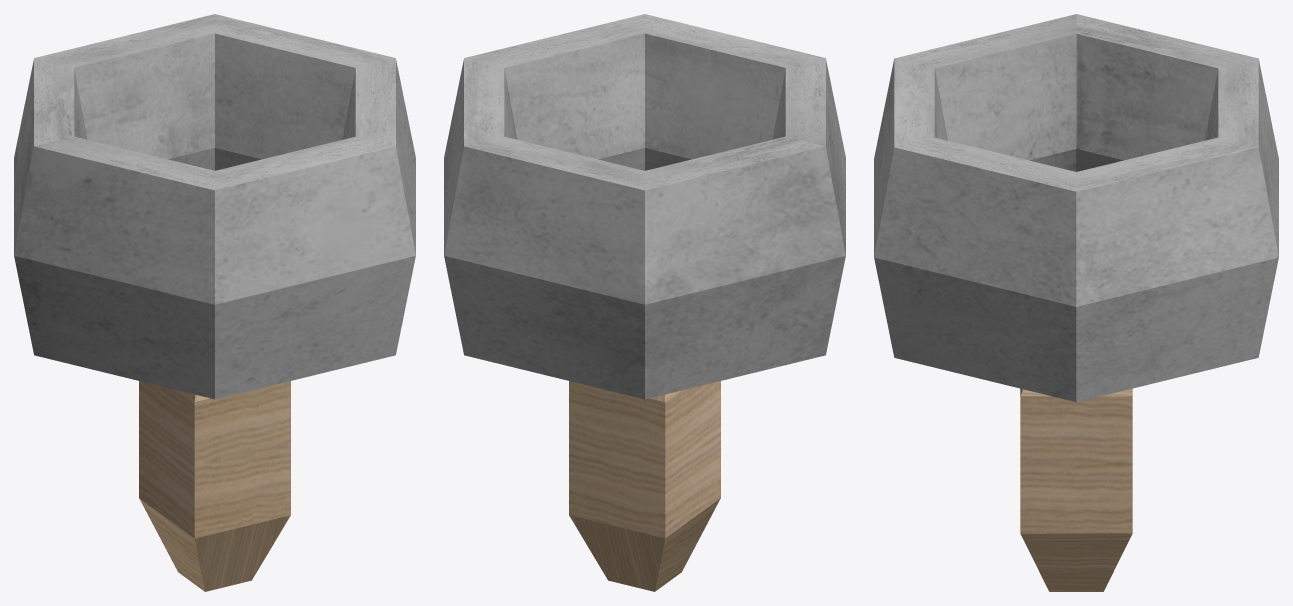
File: lamp.fbx
3 views of the same model, side by side, from view 1: azimuth 30°, elevation 25°; view 2: azimuth 150°, elevation 25°; view 3: azimuth 270°, elevation 25° (orthographic).
Visible parts, largest first — view 1: Torus.001; view 2: Torus.001; view 3: Torus.001.
Part boxes in pixels (left/top/right/bottom): Torus.001: left=14, top=14, right=415, bottom=591; Torus.001: left=444, top=14, right=845, bottom=591; Torus.001: left=874, top=14, right=1278, bottom=591.
Size of the model in its own units: 143 by 161 by 124.
